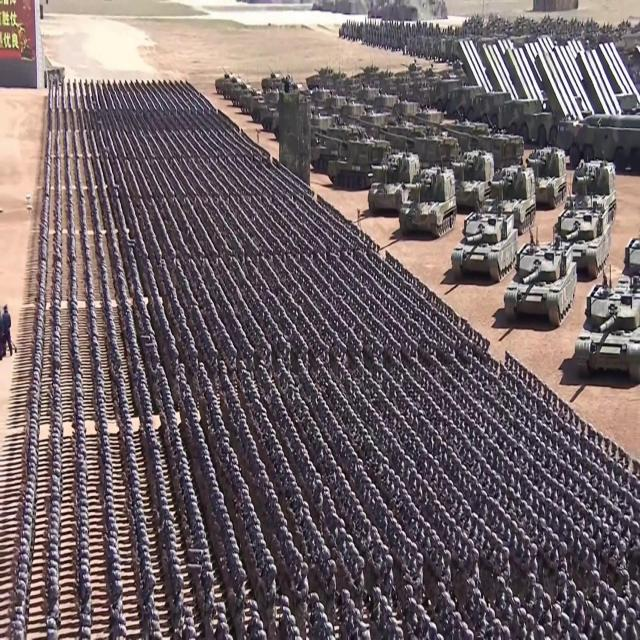Soldier: (297, 563, 310, 623), (143, 576, 156, 636), (172, 574, 184, 637), (202, 574, 214, 636), (235, 567, 247, 626), (405, 542, 418, 594), (627, 522, 640, 574), (487, 533, 496, 605), (264, 564, 276, 618), (352, 557, 365, 605), (514, 528, 524, 589), (520, 536, 530, 596), (334, 518, 346, 564), (326, 559, 336, 611), (483, 523, 490, 597), (373, 538, 384, 584), (414, 555, 424, 602), (463, 576, 473, 623), (431, 534, 440, 586), (453, 526, 462, 576), (421, 521, 430, 571), (445, 600, 456, 640), (401, 538, 411, 582), (361, 520, 372, 559), (585, 540, 598, 572), (371, 587, 380, 633), (477, 599, 487, 640), (616, 540, 626, 581), (574, 590, 586, 624), (441, 590, 449, 640), (383, 554, 393, 594), (392, 476, 402, 516), (380, 503, 389, 547), (566, 517, 574, 566), (551, 602, 561, 640), (550, 532, 558, 579), (541, 592, 552, 626), (516, 607, 527, 640), (469, 547, 480, 580), (435, 542, 444, 582), (397, 532, 407, 568), (504, 585, 514, 620), (494, 538, 503, 576), (442, 549, 451, 587), (437, 581, 444, 629), (472, 589, 480, 631), (351, 498, 359, 540), (566, 580, 576, 613), (629, 579, 640, 609), (393, 523, 402, 559), (542, 527, 550, 567), (494, 576, 504, 608), (448, 518, 456, 558), (607, 588, 617, 620), (444, 479, 454, 511), (340, 589, 349, 624), (389, 517, 398, 552), (558, 540, 568, 571), (407, 597, 417, 628), (558, 612, 569, 640), (536, 516, 545, 550), (580, 532, 588, 569), (502, 544, 512, 572), (584, 599, 592, 634), (347, 600, 354, 640), (594, 607, 603, 638), (438, 504, 445, 543), (594, 514, 602, 548), (584, 507, 593, 537), (570, 468, 579, 498), (611, 508, 621, 535), (459, 500, 468, 530), (623, 492, 633, 519), (422, 478, 429, 516), (565, 488, 574, 517), (506, 487, 515, 516), (610, 532, 619, 561), (610, 480, 620, 506), (455, 491, 463, 523), (526, 612, 535, 640), (356, 506, 362, 548), (503, 513, 511, 544), (352, 609, 360, 640), (474, 481, 482, 512), (439, 474, 448, 501), (590, 570, 600, 594), (551, 502, 559, 532), (480, 490, 488, 520), (601, 524, 609, 554), (379, 596, 387, 626), (464, 470, 472, 500), (433, 500, 441, 530), (573, 526, 580, 560), (376, 498, 383, 532), (620, 570, 629, 596), (510, 520, 518, 549), (512, 595, 520, 624), (560, 508, 567, 541), (478, 518, 484, 556), (416, 472, 422, 510), (595, 467, 604, 492), (460, 532, 468, 560), (535, 582, 542, 614), (492, 618, 502, 640), (604, 501, 614, 523), (467, 538, 473, 574), (599, 579, 608, 603), (530, 513, 538, 540), (464, 506, 473, 530), (621, 516, 630, 540), (365, 476, 371, 512), (527, 572, 534, 602), (497, 508, 504, 538), (416, 605, 422, 640), (530, 544, 538, 570), (519, 500, 527, 526), (422, 614, 430, 640), (500, 482, 508, 508), (602, 472, 610, 498), (545, 497, 552, 526), (544, 473, 552, 498), (614, 461, 622, 486), (486, 496, 493, 524), (514, 492, 521, 520), (551, 452, 558, 480), (585, 482, 592, 510), (538, 492, 546, 516), (451, 486, 457, 518), (489, 469, 496, 496), (344, 486, 350, 517), (514, 466, 521, 492), (591, 489, 598, 515), (598, 493, 606, 515), (508, 460, 514, 489), (471, 512, 477, 540), (557, 483, 565, 504), (528, 453, 534, 481), (526, 480, 532, 508), (539, 442, 546, 466), (565, 460, 571, 488), (545, 445, 551, 472), (494, 474, 500, 501), (485, 463, 491, 490), (534, 461, 540, 488), (629, 474, 637, 494), (532, 486, 538, 512), (526, 506, 532, 531), (559, 458, 565, 483), (579, 474, 585, 499), (471, 476, 476, 506), (444, 510, 448, 547), (522, 472, 528, 495), (552, 478, 558, 499)
